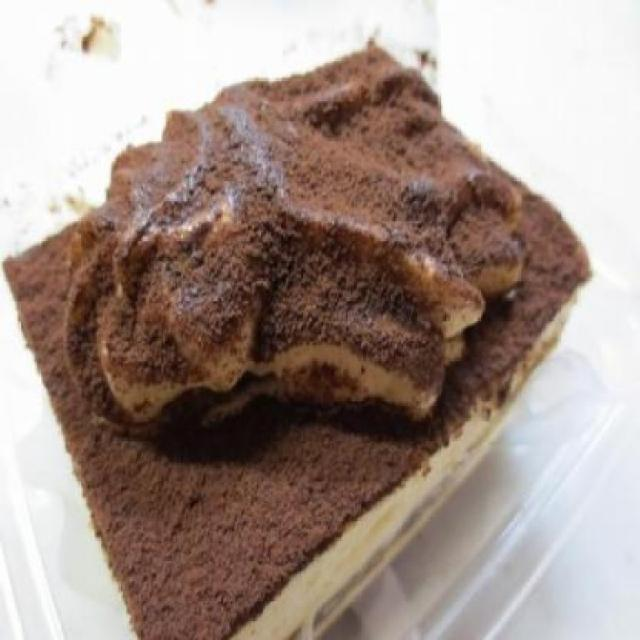Tiramisu: (79, 61, 504, 428)
